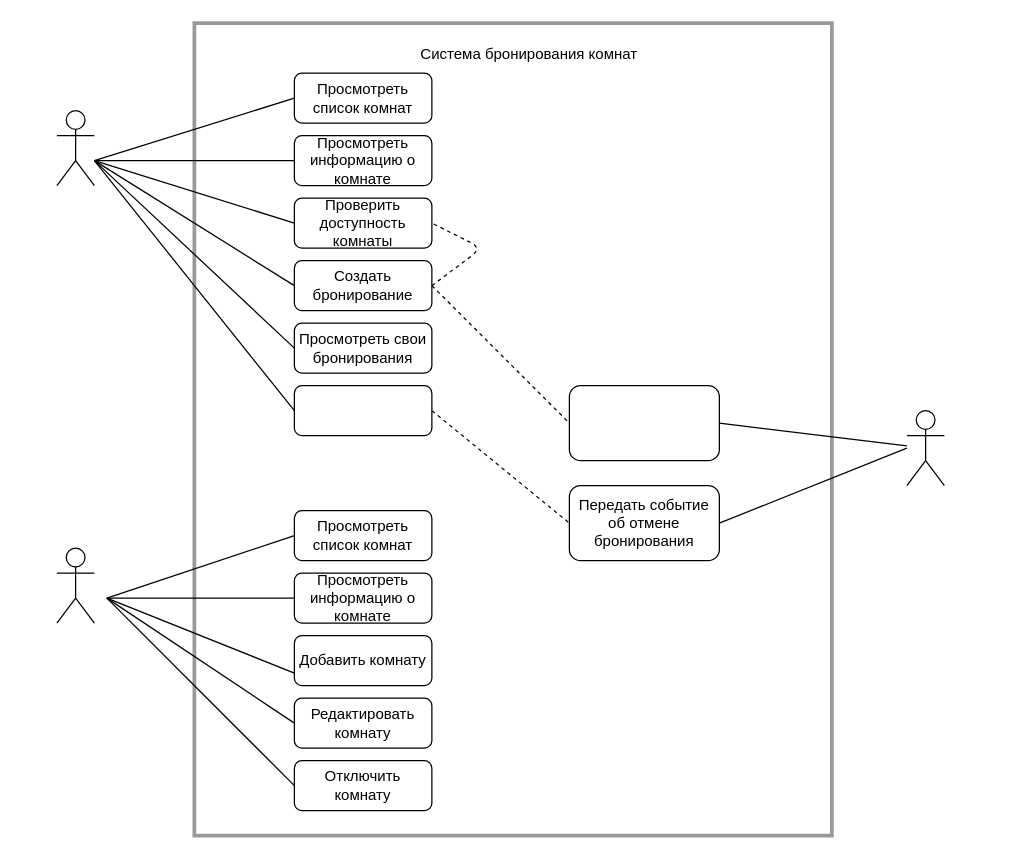
Some shapes in this 1026 by 859 pixel diagram are drawn without their labels. Each missing label, with the centre of its shape:
"Администратор" belongs at pixel 75 585.
"Отменить бронирование" belongs at pixel 362 410.
"Передать событие о создании бронирования" belongs at pixel 643 422.
"Система уведомлений" belongs at pixel 925 447.
"Сотрудник" belongs at pixel 75 147.
